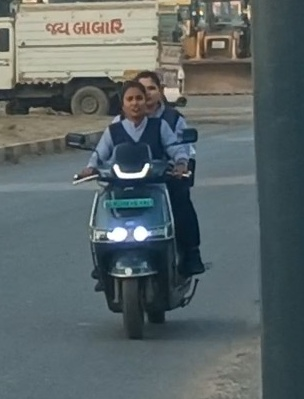BikeWithRider: (62, 58, 215, 344)
NoHelmet: (115, 79, 150, 125), (139, 72, 169, 111)
